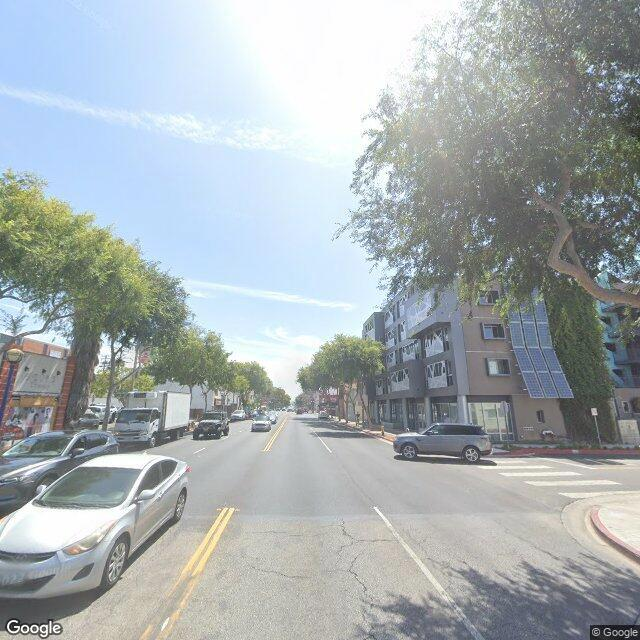crack: (334, 515, 395, 639), (241, 561, 313, 580)
